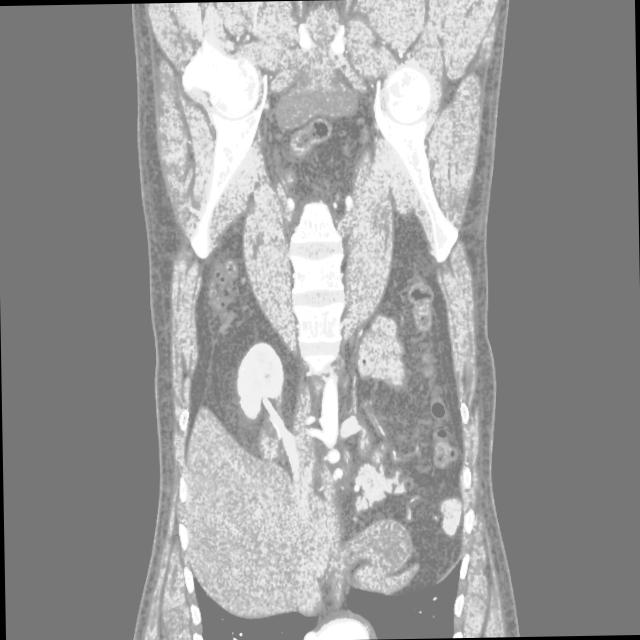NORMAL: (79, 138, 591, 604)
